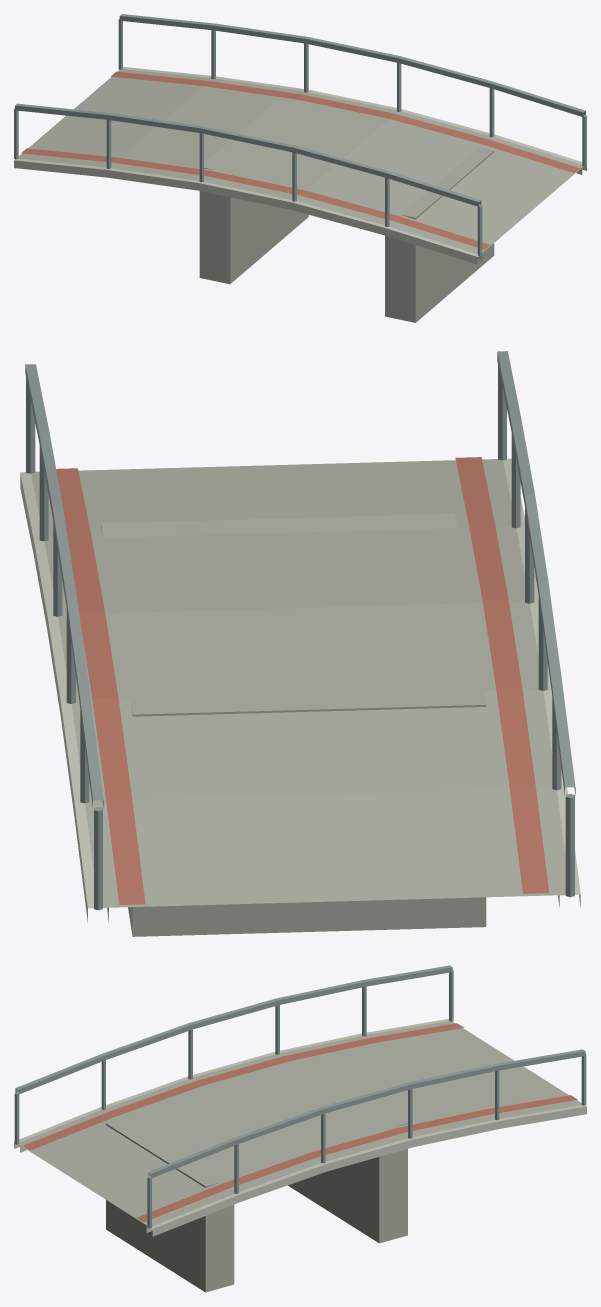
Rendered from infra-lake-bridge-835748952.glb.
3 views of the same model, one above another, from view 1: azimuth 30°, elevation 25°; view 2: azimuth 150°, elevation 25°; view 3: azimuth 270°, elevation 25° (orthographic). The views are drawn at different scales.
Parts seen in each view (by area): view 1: infra-lake-bridge-835748952; view 2: infra-lake-bridge-835748952; view 3: infra-lake-bridge-835748952.
Boxes of the visible parts, bbox=[...] form: infra-lake-bridge-835748952: bbox=[14, 14, 586, 322]; infra-lake-bridge-835748952: bbox=[20, 351, 580, 936]; infra-lake-bridge-835748952: bbox=[14, 965, 586, 1292].
Size of the model in its own units: 9.38 by 3.46 by 10.79.
